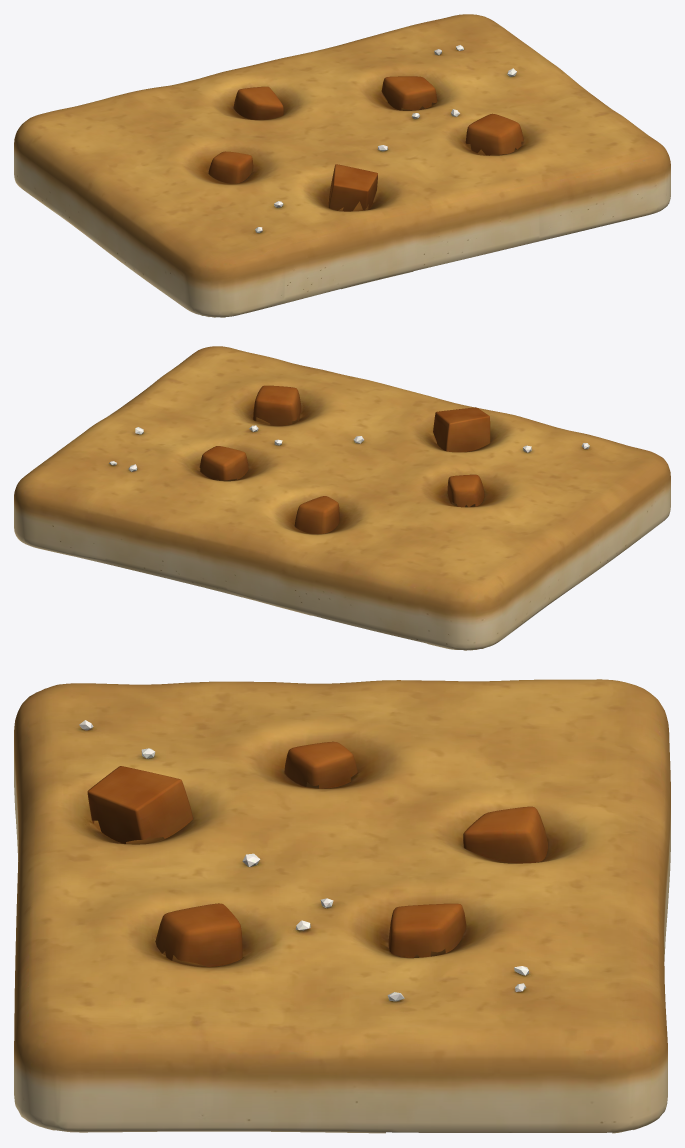
The model's file is focaccia--maple-cube.glb.
3 renders of one model, top to bottom at view 1: azimuth 30°, elevation 25°; view 2: azimuth 150°, elevation 25°; view 3: azimuth 270°, elevation 25°, orthographic. The views are drawn at different scales.
Parts seen in each view (by area): view 1: focaccia_maple-cube; view 2: focaccia_maple-cube; view 3: focaccia_maple-cube.
Boxes of the visible parts, bbox=[...] form: focaccia_maple-cube: bbox=[14, 14, 670, 317]; focaccia_maple-cube: bbox=[14, 346, 670, 650]; focaccia_maple-cube: bbox=[14, 679, 670, 1133].
Size of the model in its own units: 1.01 by 0.1582 by 0.7441.
1 material, 1 textured.
